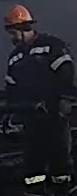gloves: (57, 90, 76, 120)
helmet: (0, 3, 34, 29)
vest: (5, 32, 76, 129)
